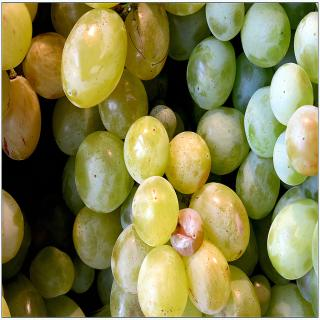Grape: (2, 3, 318, 318)
